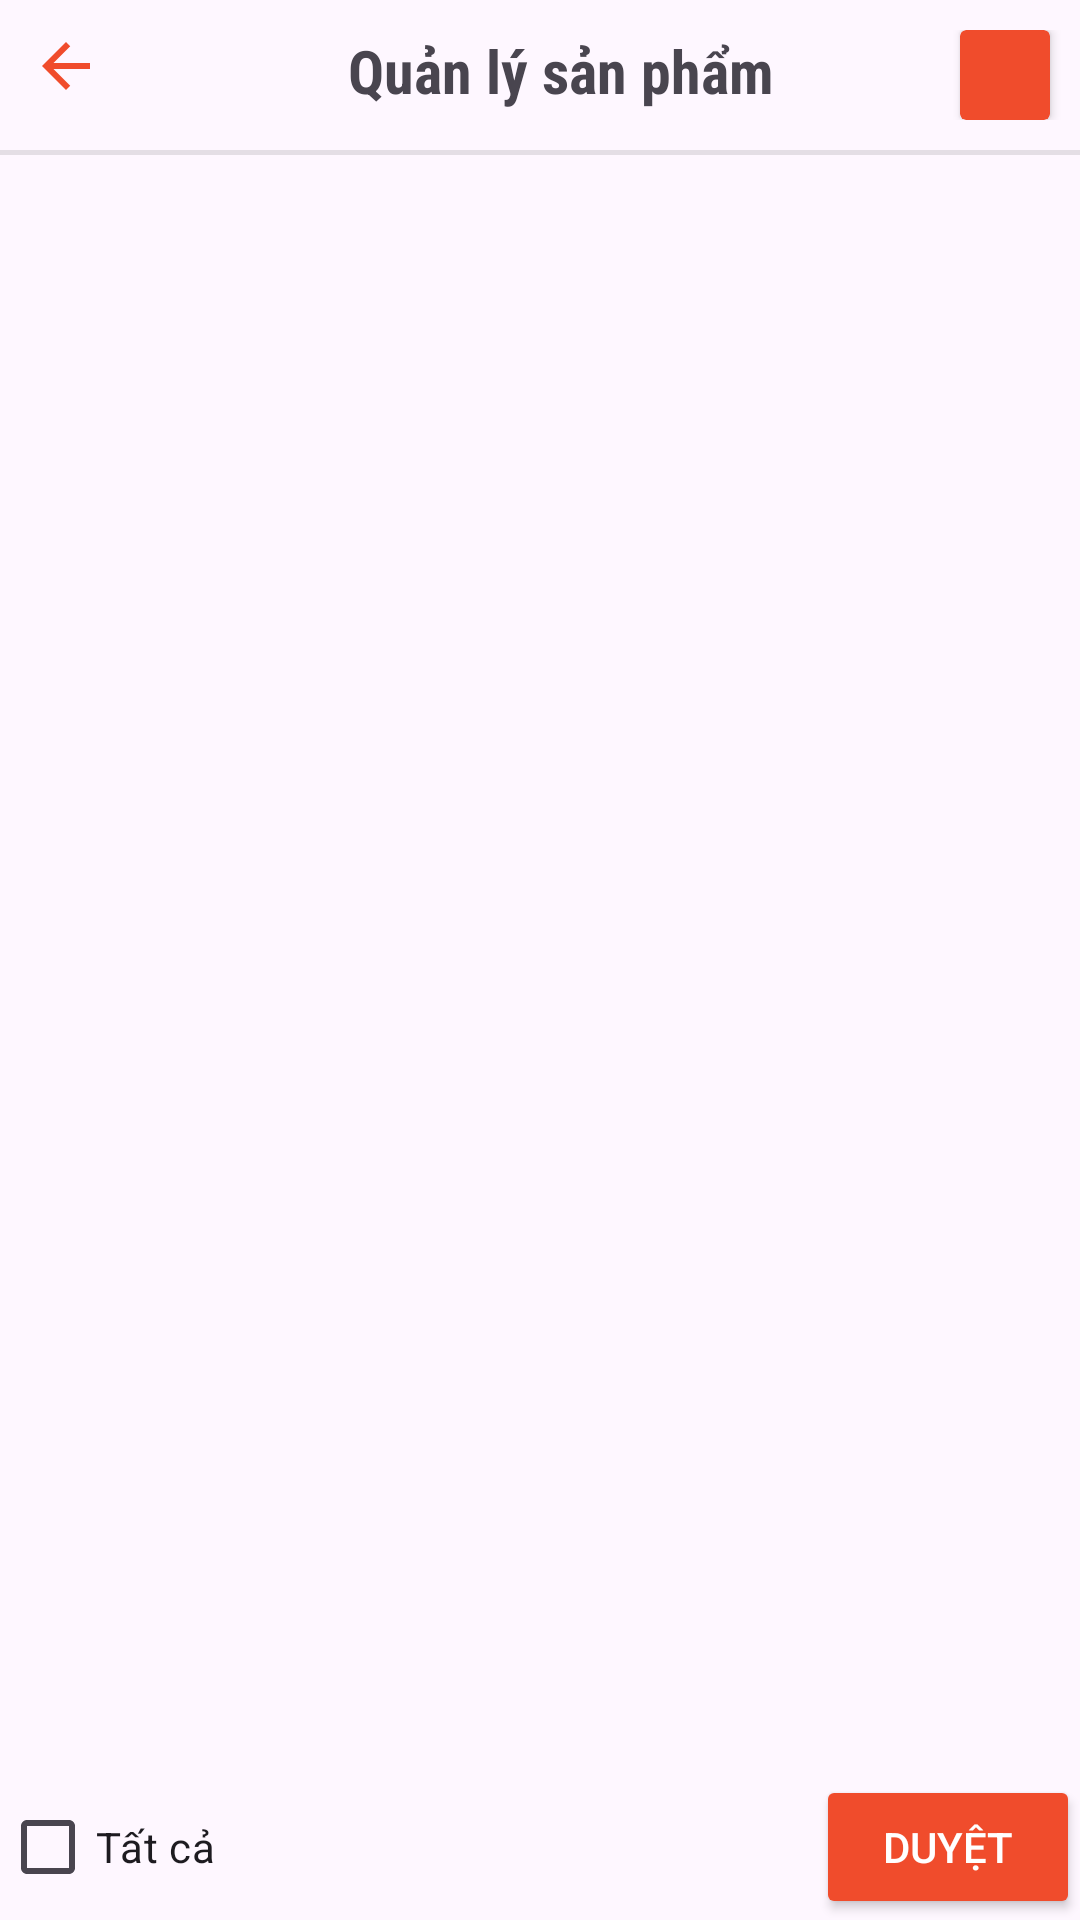

Icons on this 1080px×1920px Android screen, each with its box as bbox=[x1, y1, x2, y2]:
back: bbox=[42, 42, 90, 90]
